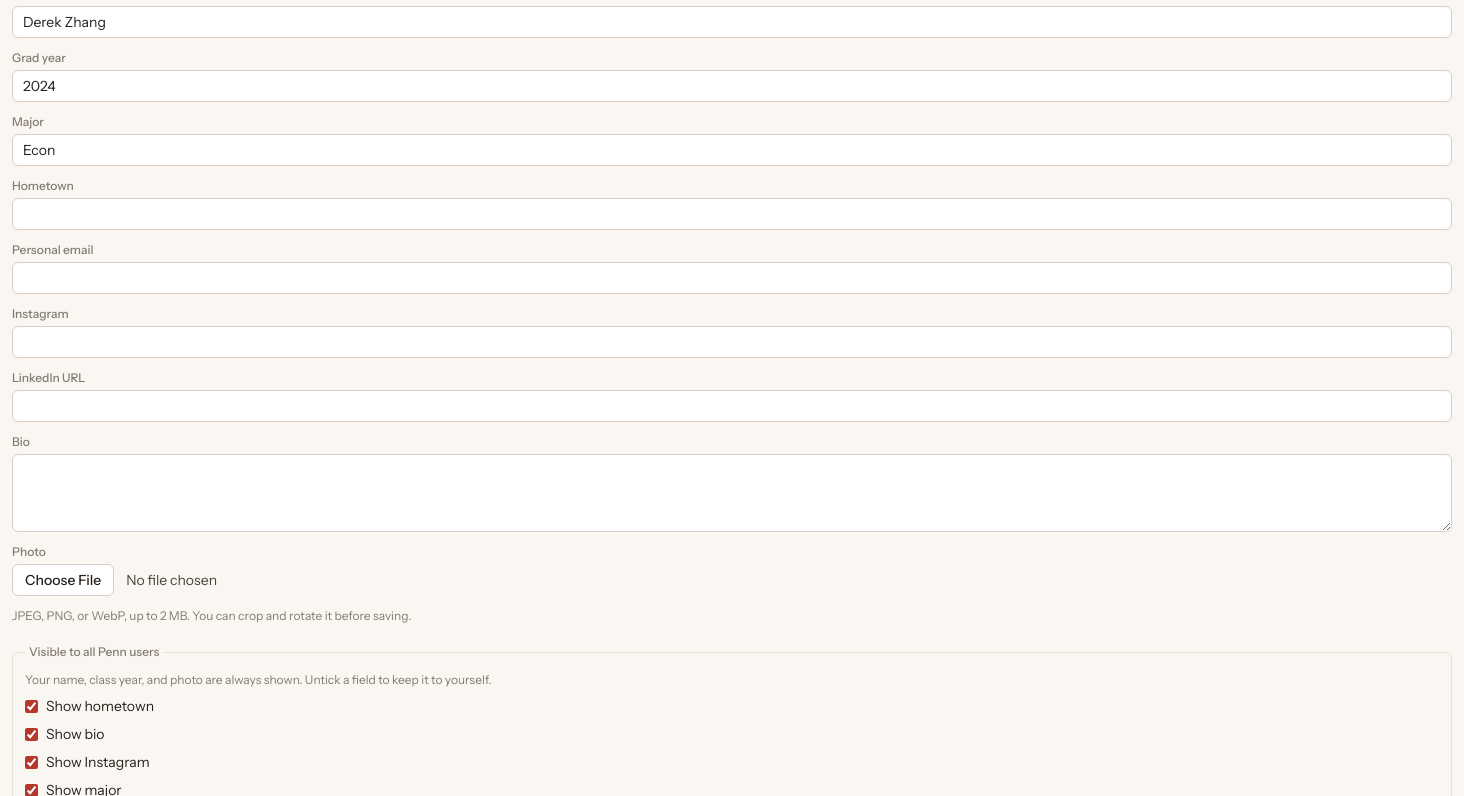
Scenario: ProfileEditor › shows a save error verbatim
Replace the text in the field labelled "Major" with "Math" at (732, 150), box top-left (12, 134), bottom-right (1452, 166)
(page scrolled)
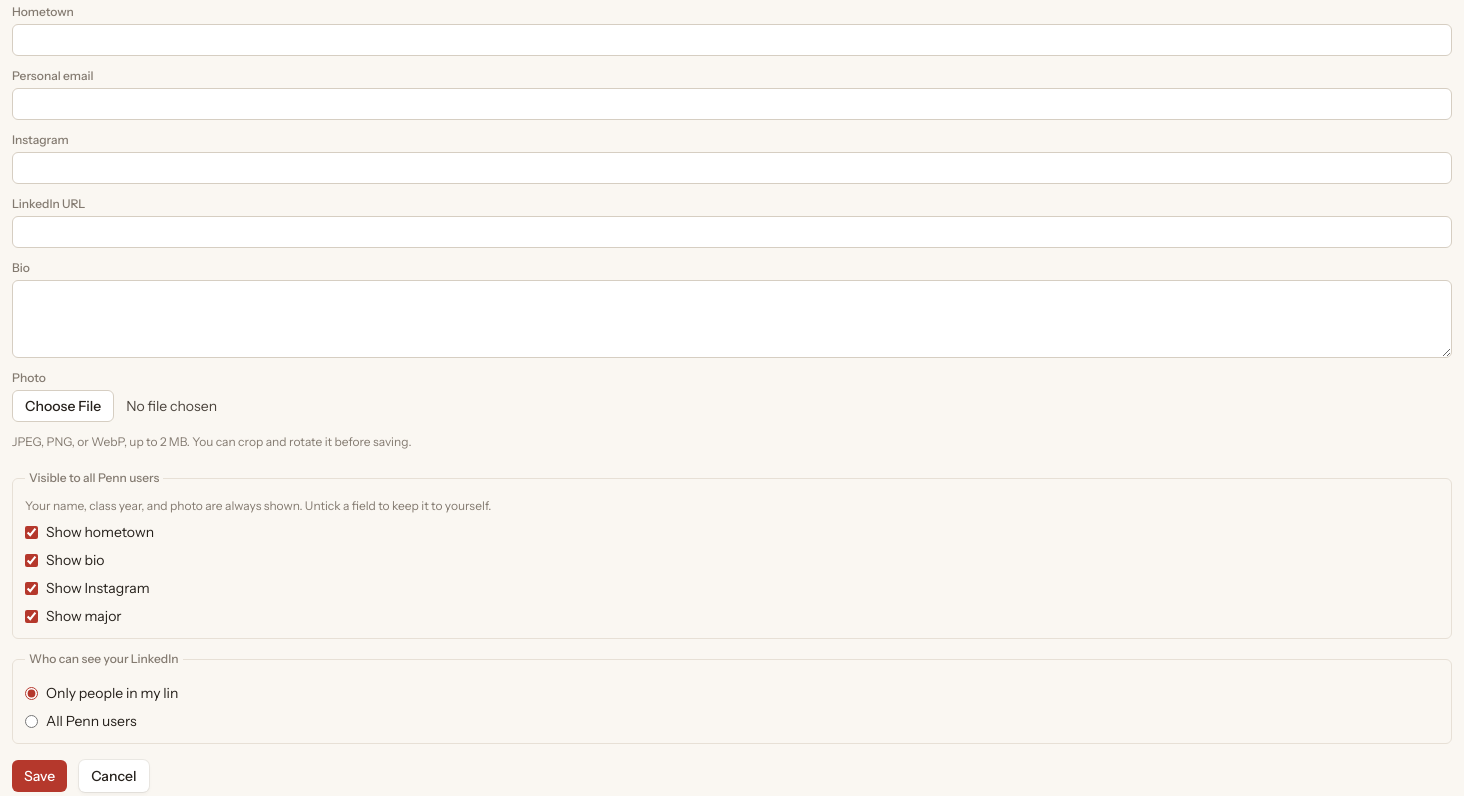
Click the button "Save" at (40, 776), box top-left (12, 760), bottom-right (67, 792)
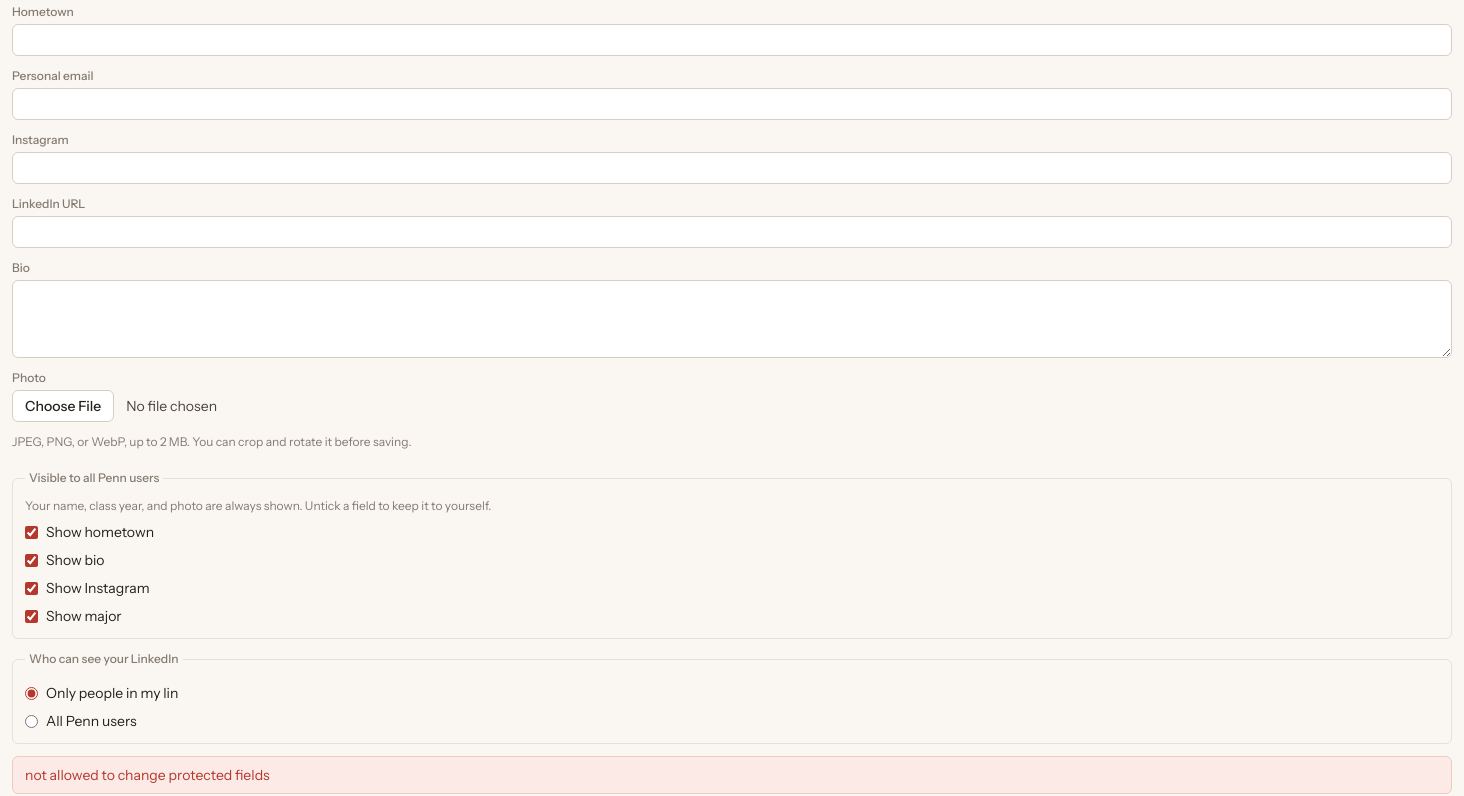
Expected: the message reads "not allowed to change protected fields", top-left (25, 766), bottom-right (270, 784)
